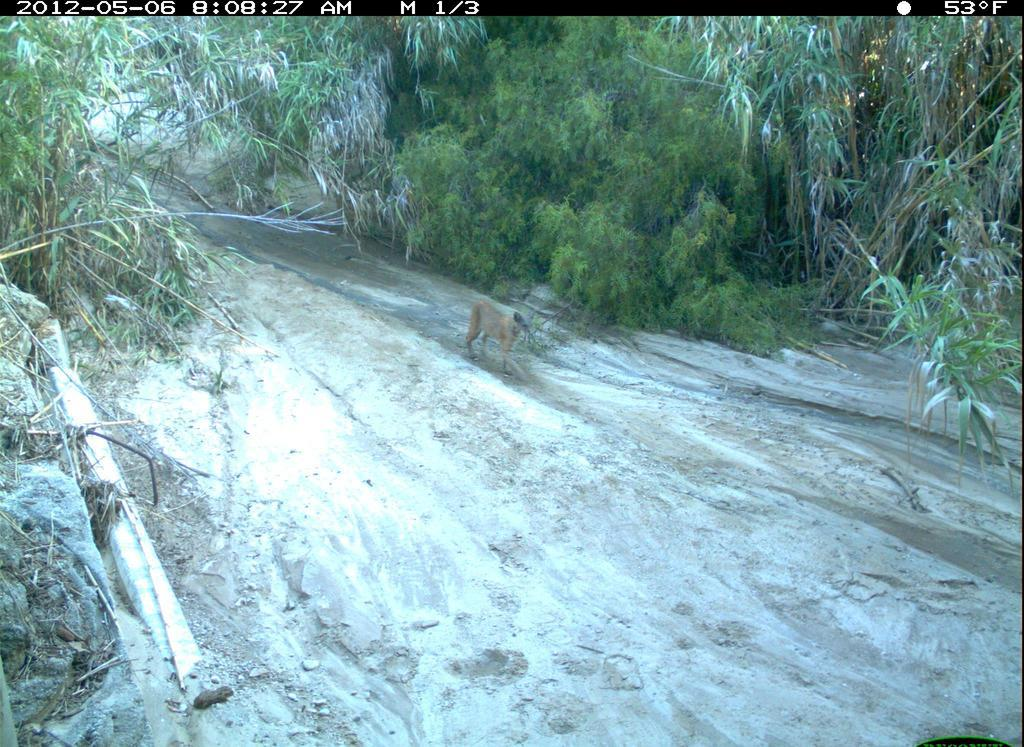bobcat: (914, 591, 1024, 747)
